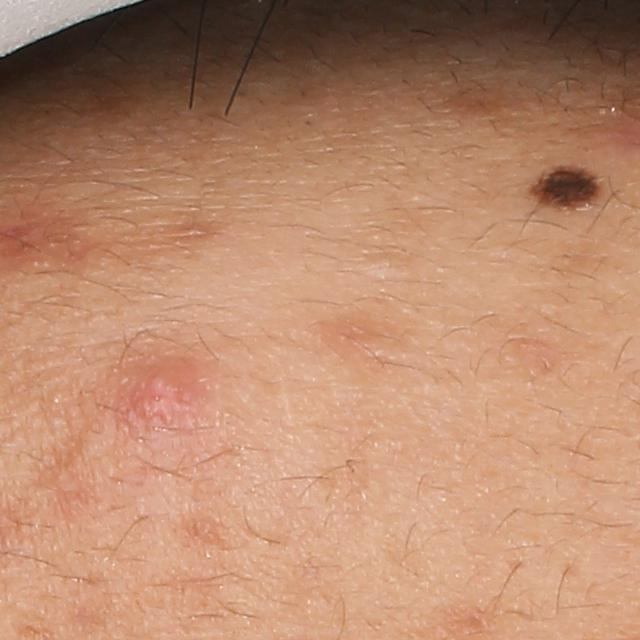nevus: (537, 157, 613, 209)
papule: (119, 356, 197, 432)
